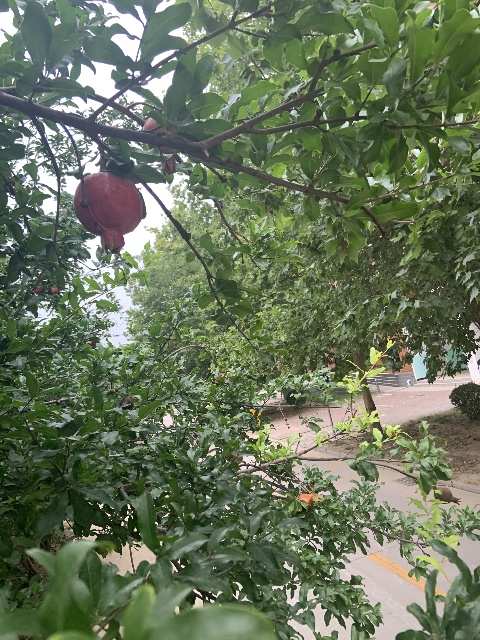ripe: (74, 172, 143, 254), (142, 117, 176, 175)
